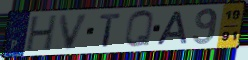9: (191, 8, 218, 46)
A: (154, 10, 189, 46)
H: (24, 13, 60, 53)
Q: (123, 9, 155, 50)
T: (98, 12, 123, 49)
V: (59, 12, 92, 52)
